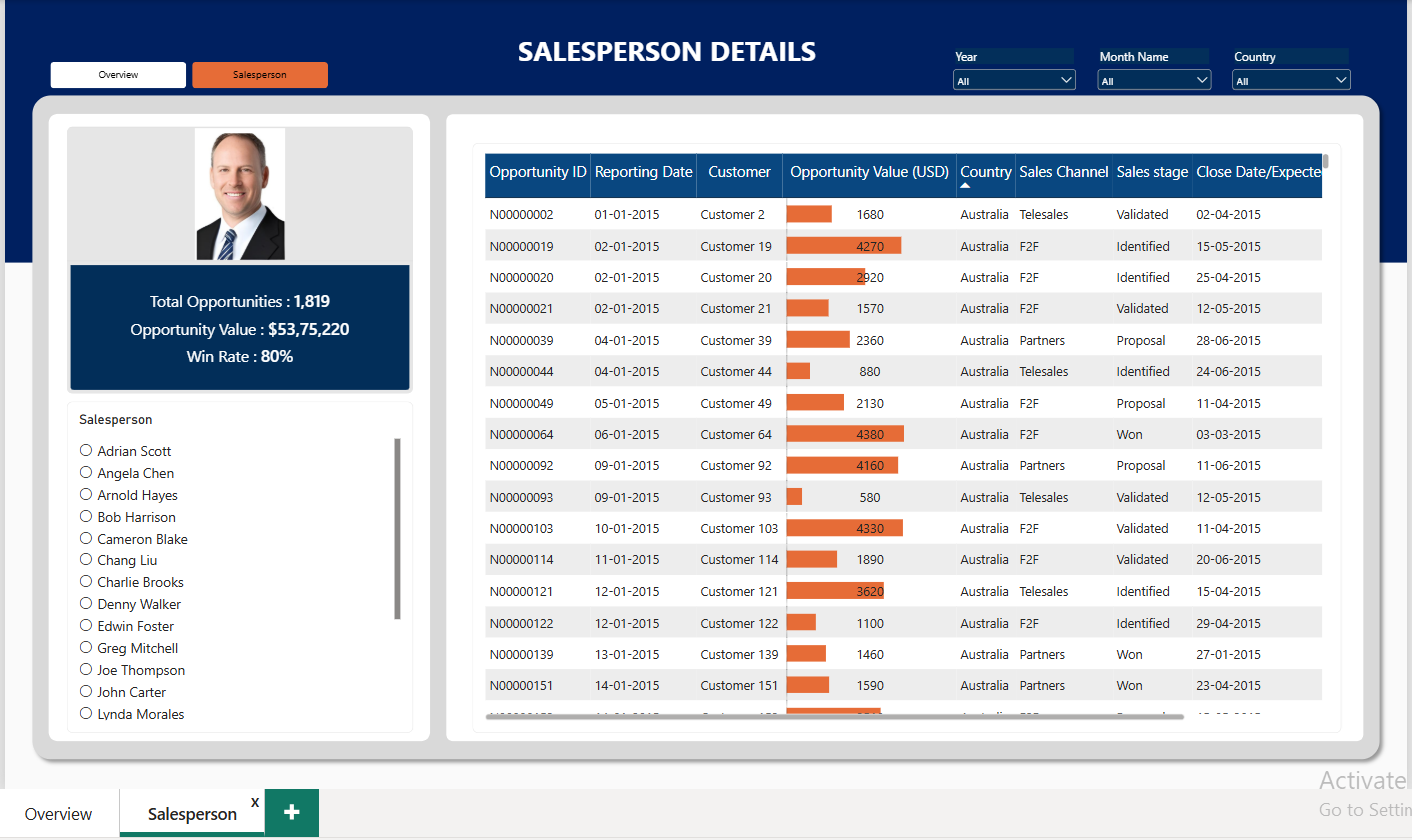

The page's visual inventory and layout, read from the dashboard file:
{"tool":"powerbi","page":{"name":"Salesperson","canvas":[1920,1080],"ordinal":1},"visuals":[{"type":"pageNavigator","box":[62,84,380,36],"z":0},{"type":"slicer","fields":{"Values":["Date Table.month name"]},"box":[1491,66,166,72],"z":1000},{"type":"slicer","fields":{"Values":["Date Table.Year"]},"box":[1294,66,178,72],"z":2000},{"type":"slicer","fields":{"Values":["Sales Opportunities.Country"]},"box":[1676,66,172,72],"z":3000},{"type":"textbox","box":[702,44,556,58],"z":4000},{"type":"cardVisual","fields":{"Data":["Key Measures.Total Opportunities"]},"box":[84,174,474,366],"z":5000},{"type":"listSlicer","fields":{"Values":["Sales Opportunities.Salesperson"]},"box":[84,550,474,454],"z":5001},{"type":"tableEx","fields":{"Values":["Sales Opportunities.Opportunity ID","Sales Opportunities.Reporting Date","Sales Opportunities.Customer","Sales Opportunities.Opportunity Value (USD)","Sales Opportunities.Country","Sales Opportunities.Sales Channel","Sales Opportunities.Sales stage","Sales Opportunities.Close Date/Expected Close Date","Sales Opportunities.Deal Status"]},"box":[640,196,1190,808],"z":5002}]}

Visuals, with their boxes on the page's 1920x1080 design canvas (x1, y1, x2, y2). These are canvas units, not pixel positions in the 1412x840 screenshot, which may show the page scaled, cropped or inside an application window:
pageNavigator: left=62, top=84, right=442, bottom=120
slicer - Date Table.month name: left=1491, top=66, right=1657, bottom=138
slicer - Date Table.Year: left=1294, top=66, right=1472, bottom=138
slicer - Sales Opportunities.Country: left=1676, top=66, right=1848, bottom=138
textbox: left=702, top=44, right=1258, bottom=102
cardVisual - Key Measures.Total Opportunities: left=84, top=174, right=558, bottom=540
listSlicer - Sales Opportunities.Salesperson: left=84, top=550, right=558, bottom=1004
tableEx - Sales Opportunities.Opportunity ID x Sales Opportunities.Reporting Date: left=640, top=196, right=1830, bottom=1004
